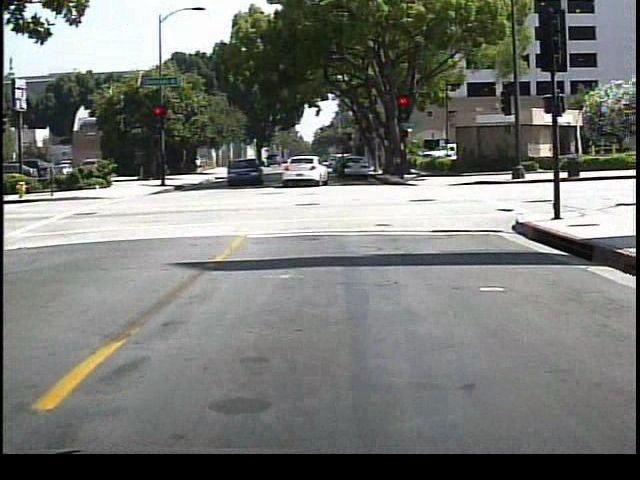person: (333, 146, 352, 185)
